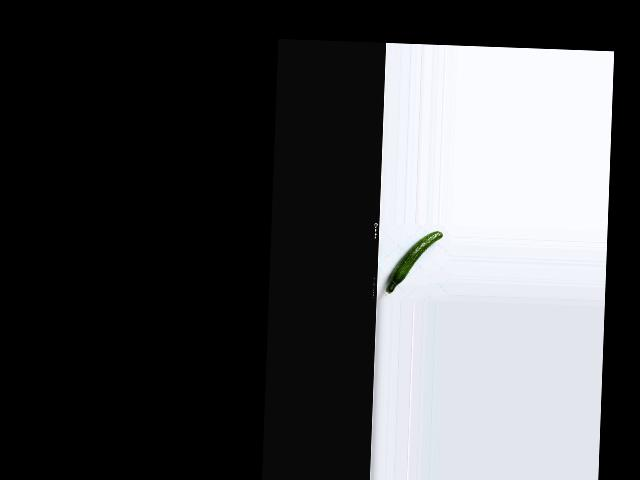cucumber: (386, 230, 442, 296)
